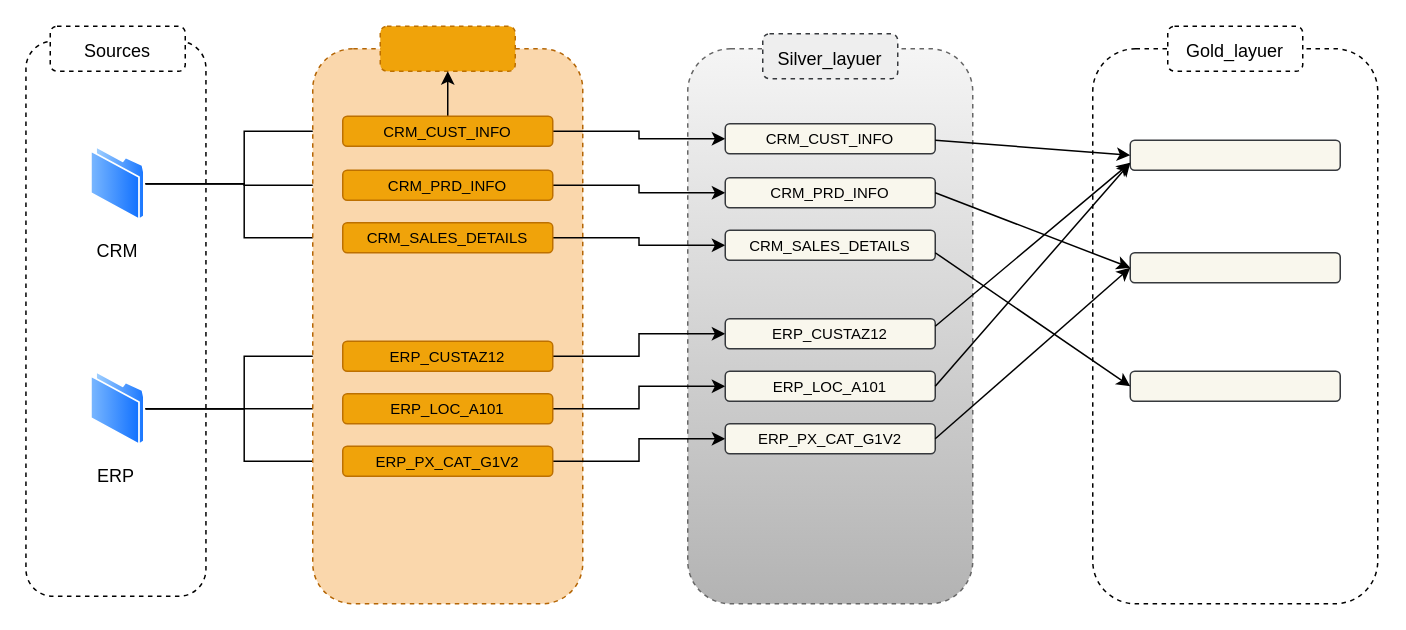
Some shapes in this 1406 by 630 pixel diagram are drawn without their labels. Each missing label, with the centre of its shape:
"[gold].[DIM_CUST_INFO]" goes at (x=1234, y=154).
"[gold].[DIM_PRODUCT_INFO]" goes at (x=1234, y=267).
"[gold].[fact_SALES_INFO]" goes at (x=1234, y=385).
"Bronze_layuer" goes at (x=447, y=48).
